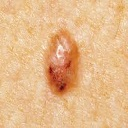Carcinoma: (44, 28, 82, 94)
